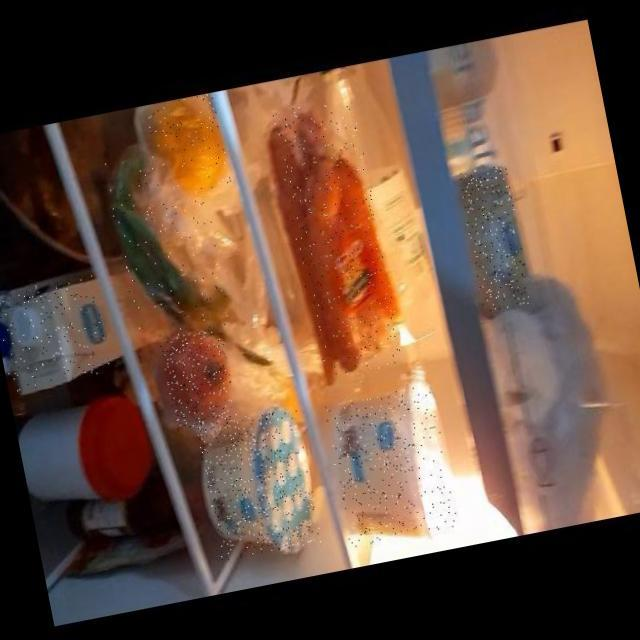Mantequilla: (456, 165, 532, 313)
Yogur: (322, 385, 458, 548), (195, 407, 321, 562)
Zanahoria: (271, 97, 405, 380)
